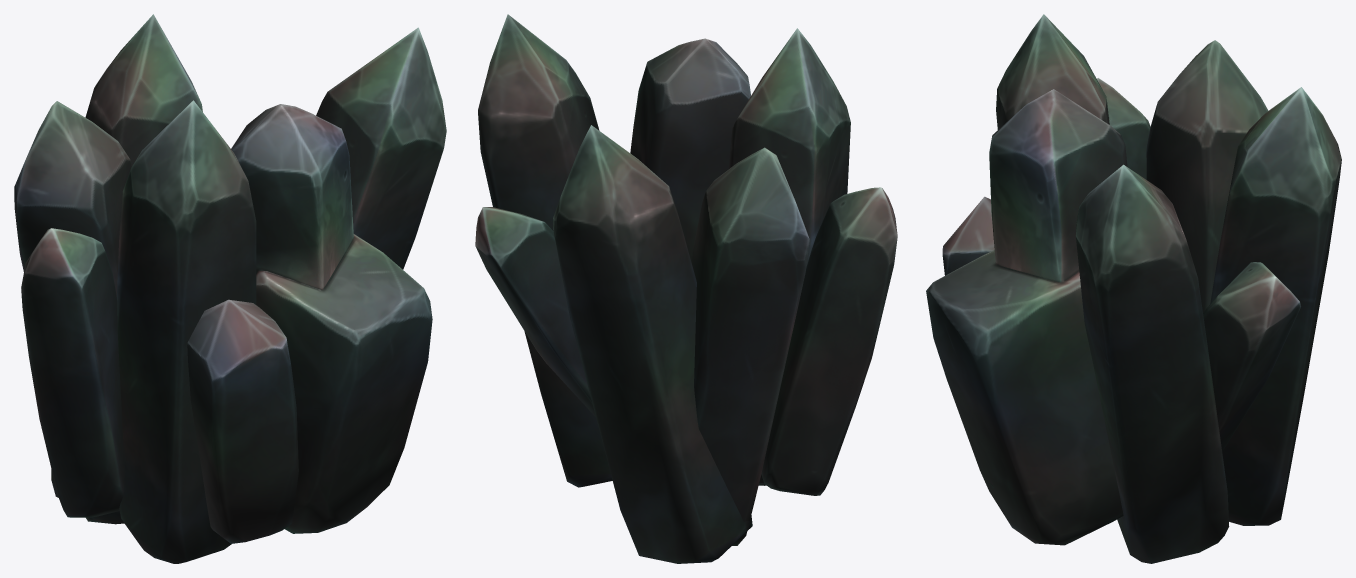
File: SM_Gem_BlackQuartz_010.fbx
3 renders of one model, left to right at view 1: azimuth 30°, elevation 25°; view 2: azimuth 150°, elevation 25°; view 3: azimuth 270°, elevation 25°, orthographic. The views are drawn at different scales.
Visible parts, largest first — view 1: SM_Gem_BlackQuartz_010; view 2: SM_Gem_BlackQuartz_010; view 3: SM_Gem_BlackQuartz_010.
Part boxes in pixels (box(x1,y1,x2,y2)): SM_Gem_BlackQuartz_010: box(14, 14, 446, 563); SM_Gem_BlackQuartz_010: box(475, 14, 897, 563); SM_Gem_BlackQuartz_010: box(926, 14, 1341, 563).
Size of the model in its own units: 76.77 by 84.2 by 65.14.
